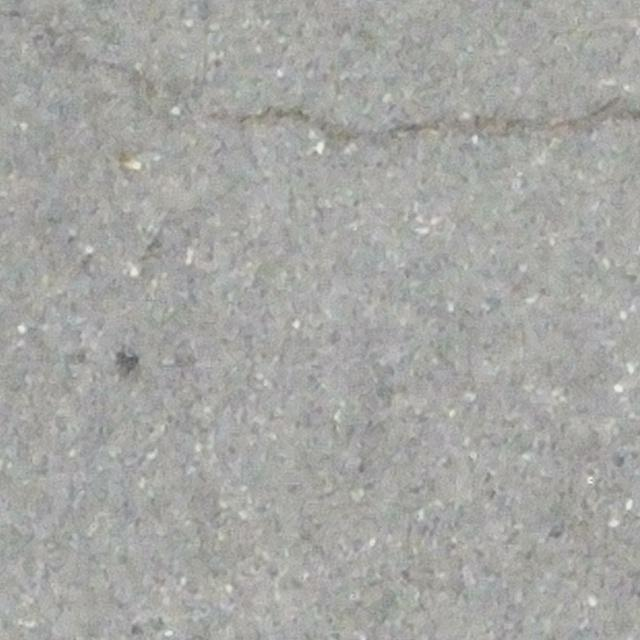TransverseCrack: (213, 101, 640, 147)
